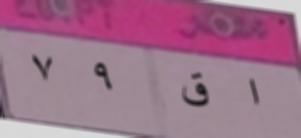7: (30, 48, 62, 88)
9: (88, 56, 117, 99)
alif: (243, 70, 264, 113)
qaaf: (180, 70, 210, 116)
